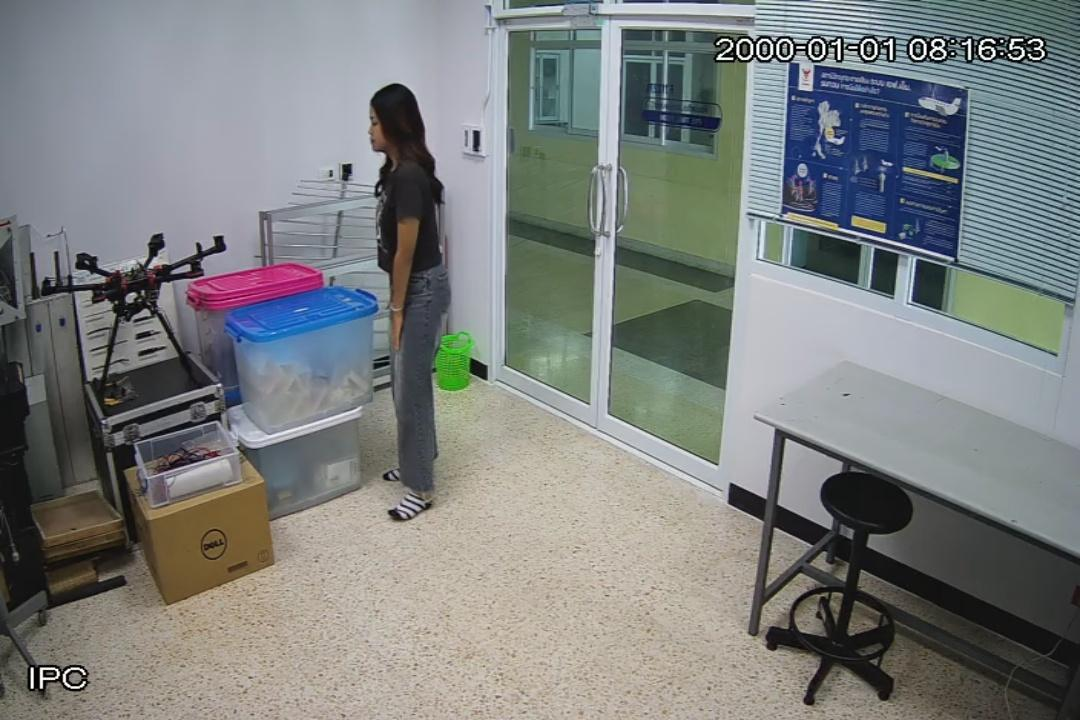normal: (350, 76, 454, 530)
